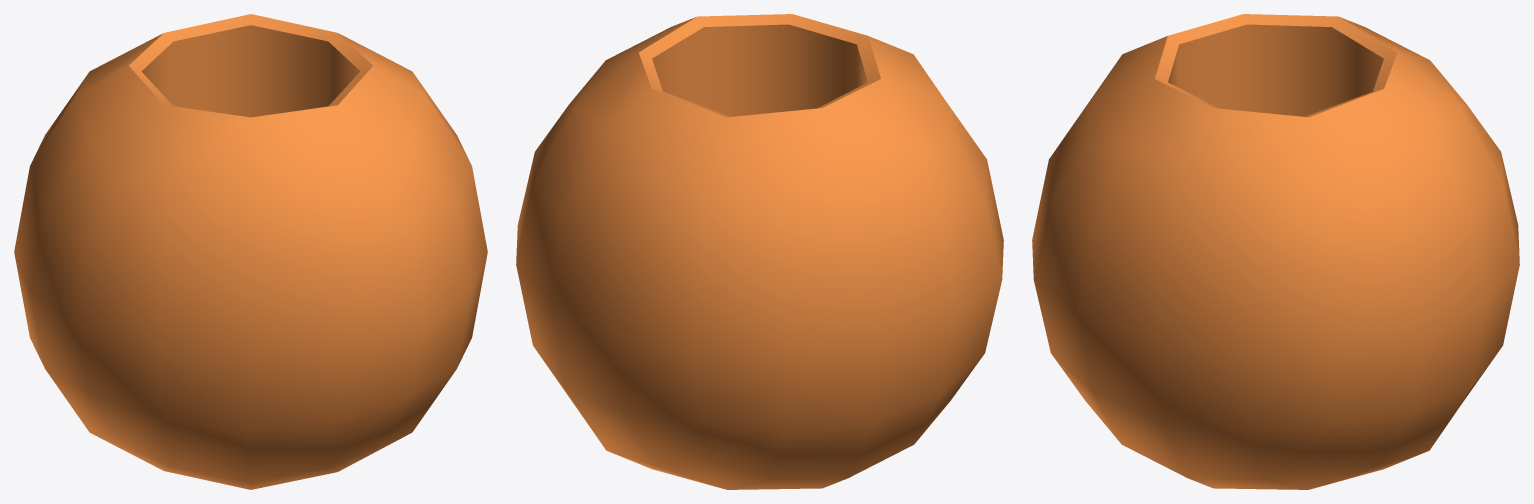
File: Toy_Ball_3.glb
3 renders of one model, left to right at view 1: azimuth 30°, elevation 25°; view 2: azimuth 150°, elevation 25°; view 3: azimuth 270°, elevation 25°, orthographic. The views are drawn at different scales.
Visible parts, largest first — view 1: Toy_Ball_3; view 2: Toy_Ball_3; view 3: Toy_Ball_3.
Part boxes in pixels (x1,y1,x2,y2): Toy_Ball_3: [14, 14, 487, 489]; Toy_Ball_3: [516, 14, 1003, 489]; Toy_Ball_3: [1032, 14, 1519, 489].
Bounding box in the file's own units: 0.0595 × 0.0512 × 0.0595.
1 material, 1 textured.
